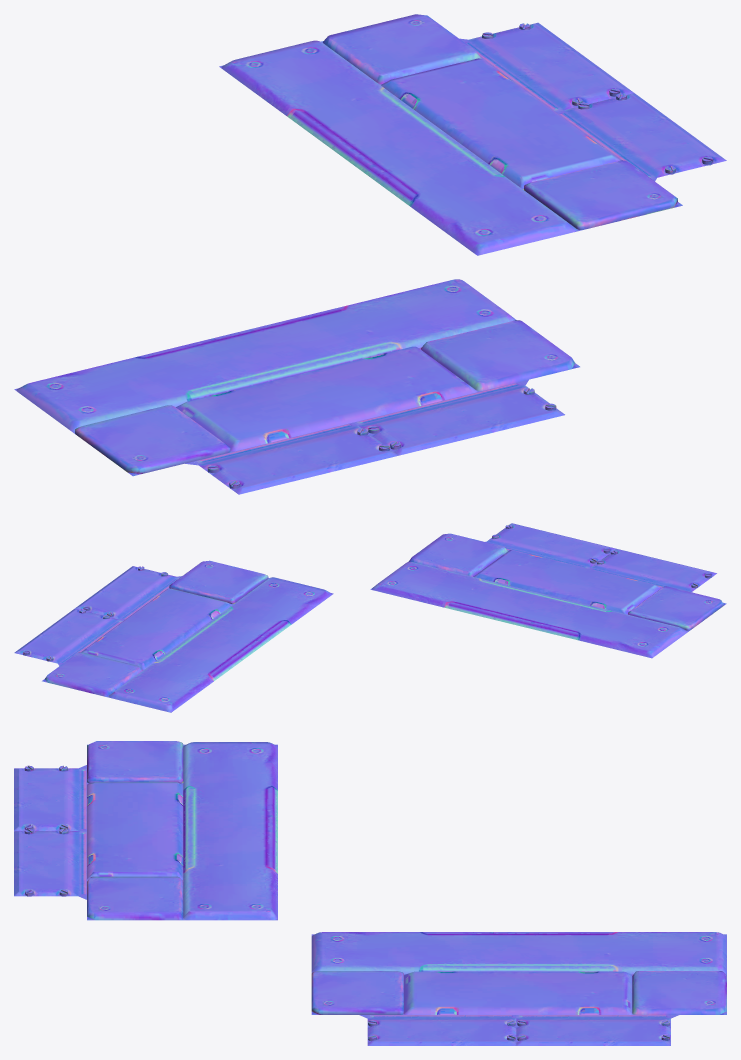
File: Building_B_Staircase_A_Floor_B.fbx
3 views of the same model, one above another, from view 1: azimuth 30°, elevation 25°; view 2: azimuth 150°, elevation 25°; view 3: azimuth 270°, elevation 25° (orthographic). The views are drawn at different scales.
Visible parts, largest first — view 1: Geom_Building_B_Staircase_A_Floor_B_LOD00; view 2: Geom_Building_B_Staircase_A_Floor_B_LOD00; view 3: Geom_Building_B_Staircase_A_Floor_B_LOD00.
Boxes of the visible parts, x1,y1,x2,y2 form: Geom_Building_B_Staircase_A_Floor_B_LOD00: [14, 14, 726, 494]; Geom_Building_B_Staircase_A_Floor_B_LOD00: [14, 523, 726, 712]; Geom_Building_B_Staircase_A_Floor_B_LOD00: [14, 741, 726, 1045].
Size of what is drawn, in the model's own units: 1270 by 10.5 by 1270.
